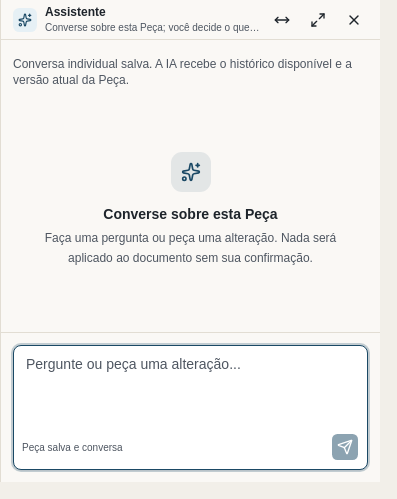
Test: AssistantPanel › revalida capacidades após recusa do backend sem apagar o pedido
Type "Revise a fundamentação." into the text box named "O que você quer que a IA faça?". click: {"x": 190, "y": 386}
box: [14, 346, 367, 426]
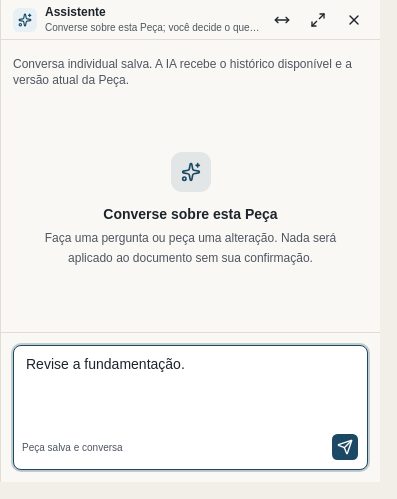
Click the button named "Enviar para IA". click: {"x": 345, "y": 447}
box: [331, 433, 359, 461]
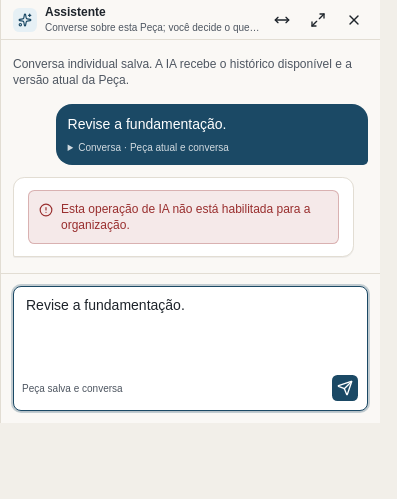
Now the message shows "não está habilitada", box [61, 202, 310, 232]
